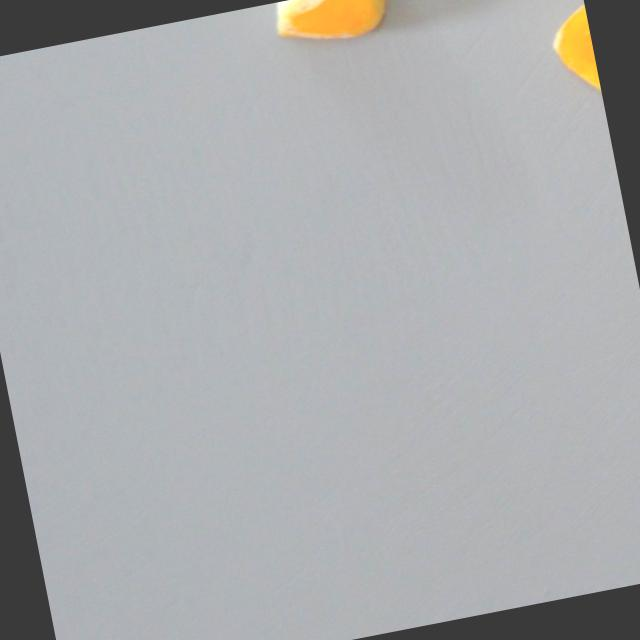no_canjicado: (547, 0, 601, 98)
pelicula: (271, 0, 392, 50)
